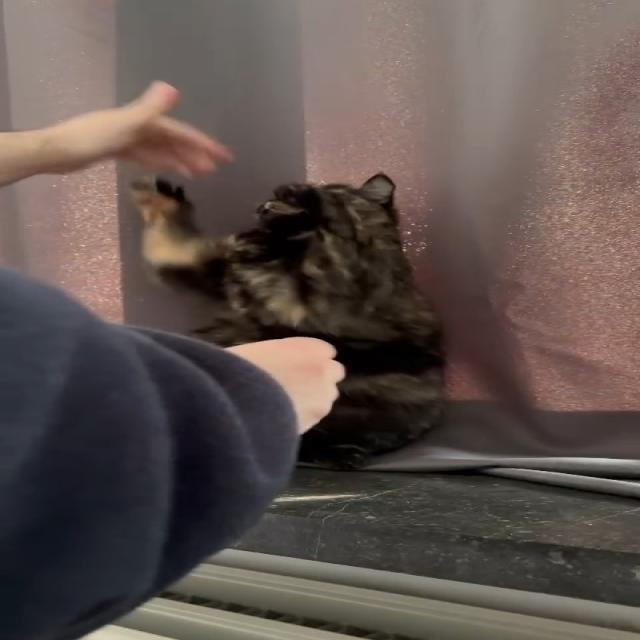authorized: (128, 171, 449, 470)
